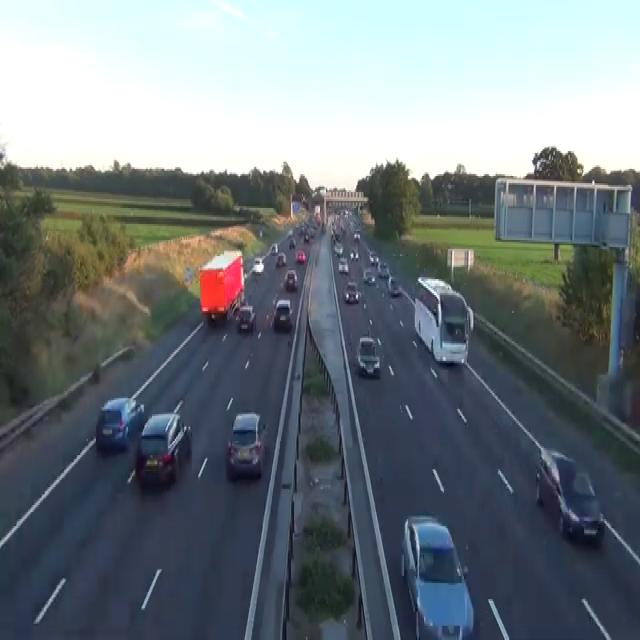Car: (280, 484, 367, 638), (400, 514, 474, 638), (535, 448, 604, 542), (135, 411, 192, 487), (226, 411, 266, 480), (95, 396, 144, 452), (355, 336, 380, 377), (416, 276, 452, 295), (273, 299, 293, 329), (235, 304, 256, 331), (344, 279, 360, 304), (284, 268, 297, 290), (387, 276, 401, 295), (252, 258, 264, 274), (363, 268, 375, 284), (377, 262, 389, 278), (338, 256, 348, 274), (275, 250, 286, 266), (231, 302, 240, 318), (333, 242, 343, 256), (296, 249, 305, 263), (350, 247, 359, 261), (370, 252, 379, 265), (331, 230, 340, 243), (269, 242, 278, 254), (289, 236, 296, 249), (353, 229, 360, 240), (308, 226, 315, 236), (287, 228, 293, 238), (349, 249, 355, 259), (304, 233, 309, 242), (355, 250, 359, 260), (259, 228, 262, 236)
Truck: (413, 276, 474, 364), (198, 249, 244, 322), (314, 204, 321, 226)
